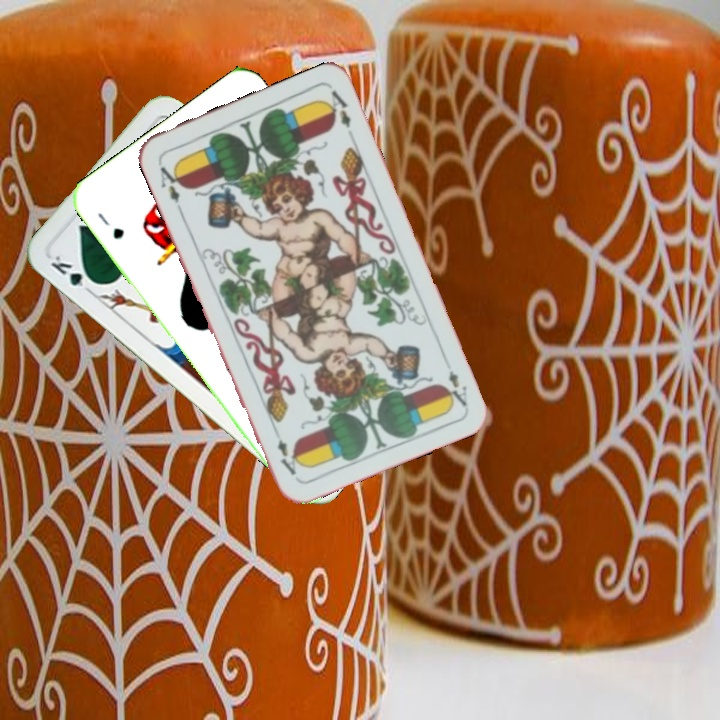EA: (439, 354, 470, 409), (153, 158, 186, 205)
GK: (46, 251, 100, 297)
GU: (93, 209, 127, 242)
